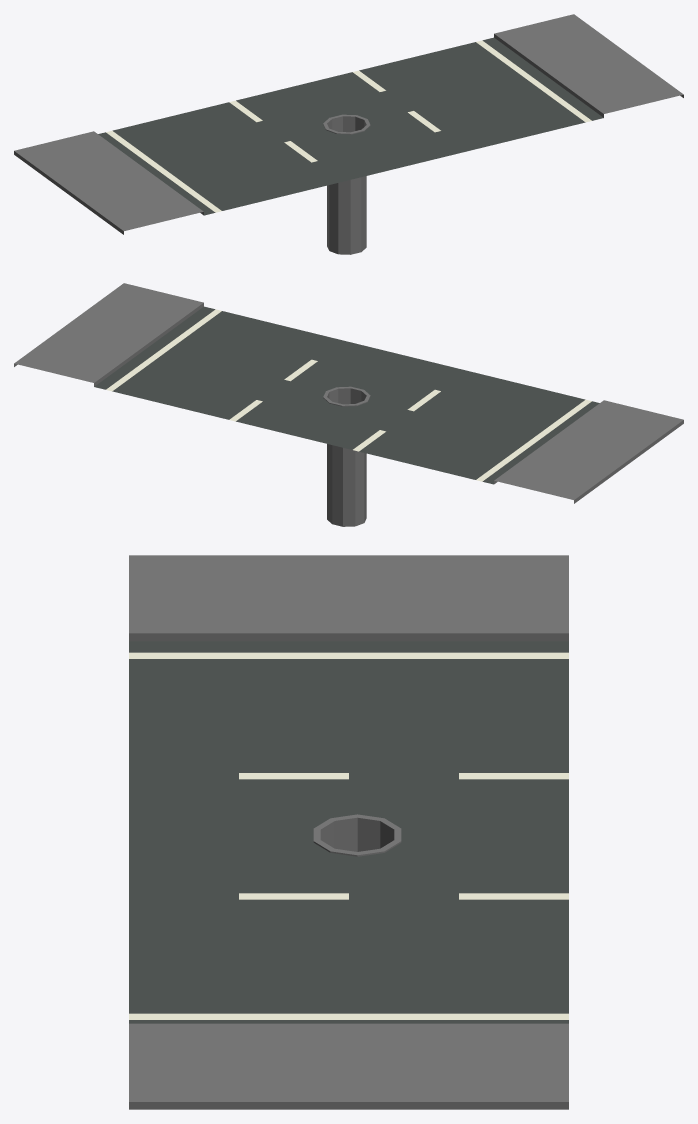
The model's file is Road_Manhole_2.fbx.
3 renders of one model, top to bottom at view 1: azimuth 30°, elevation 25°; view 2: azimuth 150°, elevation 25°; view 3: azimuth 270°, elevation 25°, orthographic. The views are drawn at different scales.
Visible parts, largest first — view 1: Road_Manhole_2; view 2: Road_Manhole_2; view 3: Road_Manhole_2.
Part boxes in pixels (x1,y1,x2,y2): Road_Manhole_2: (14, 14, 683, 254); Road_Manhole_2: (14, 283, 683, 526); Road_Manhole_2: (129, 555, 568, 1109).
Bounding box in the file's own units: 29.4 × 6.3 × 10.
1 material, 1 textured.
